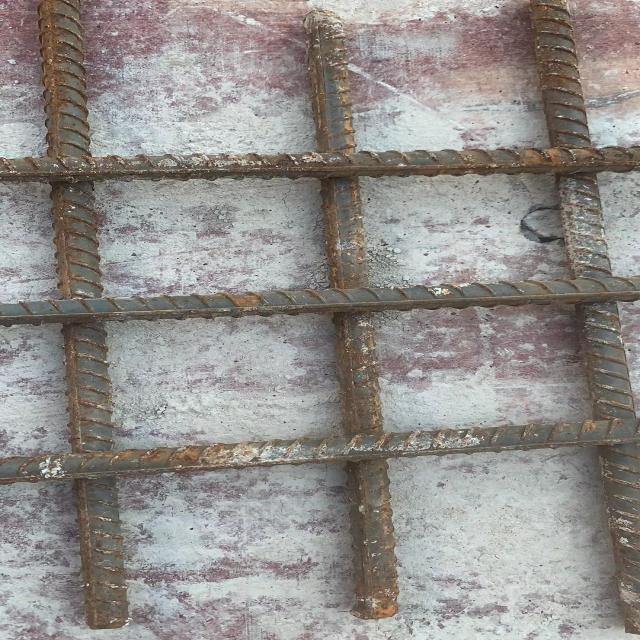ribbed bar: (521, 0, 639, 636), (35, 0, 133, 628), (307, 11, 401, 620), (0, 416, 639, 486), (0, 275, 639, 328), (0, 144, 639, 185)
